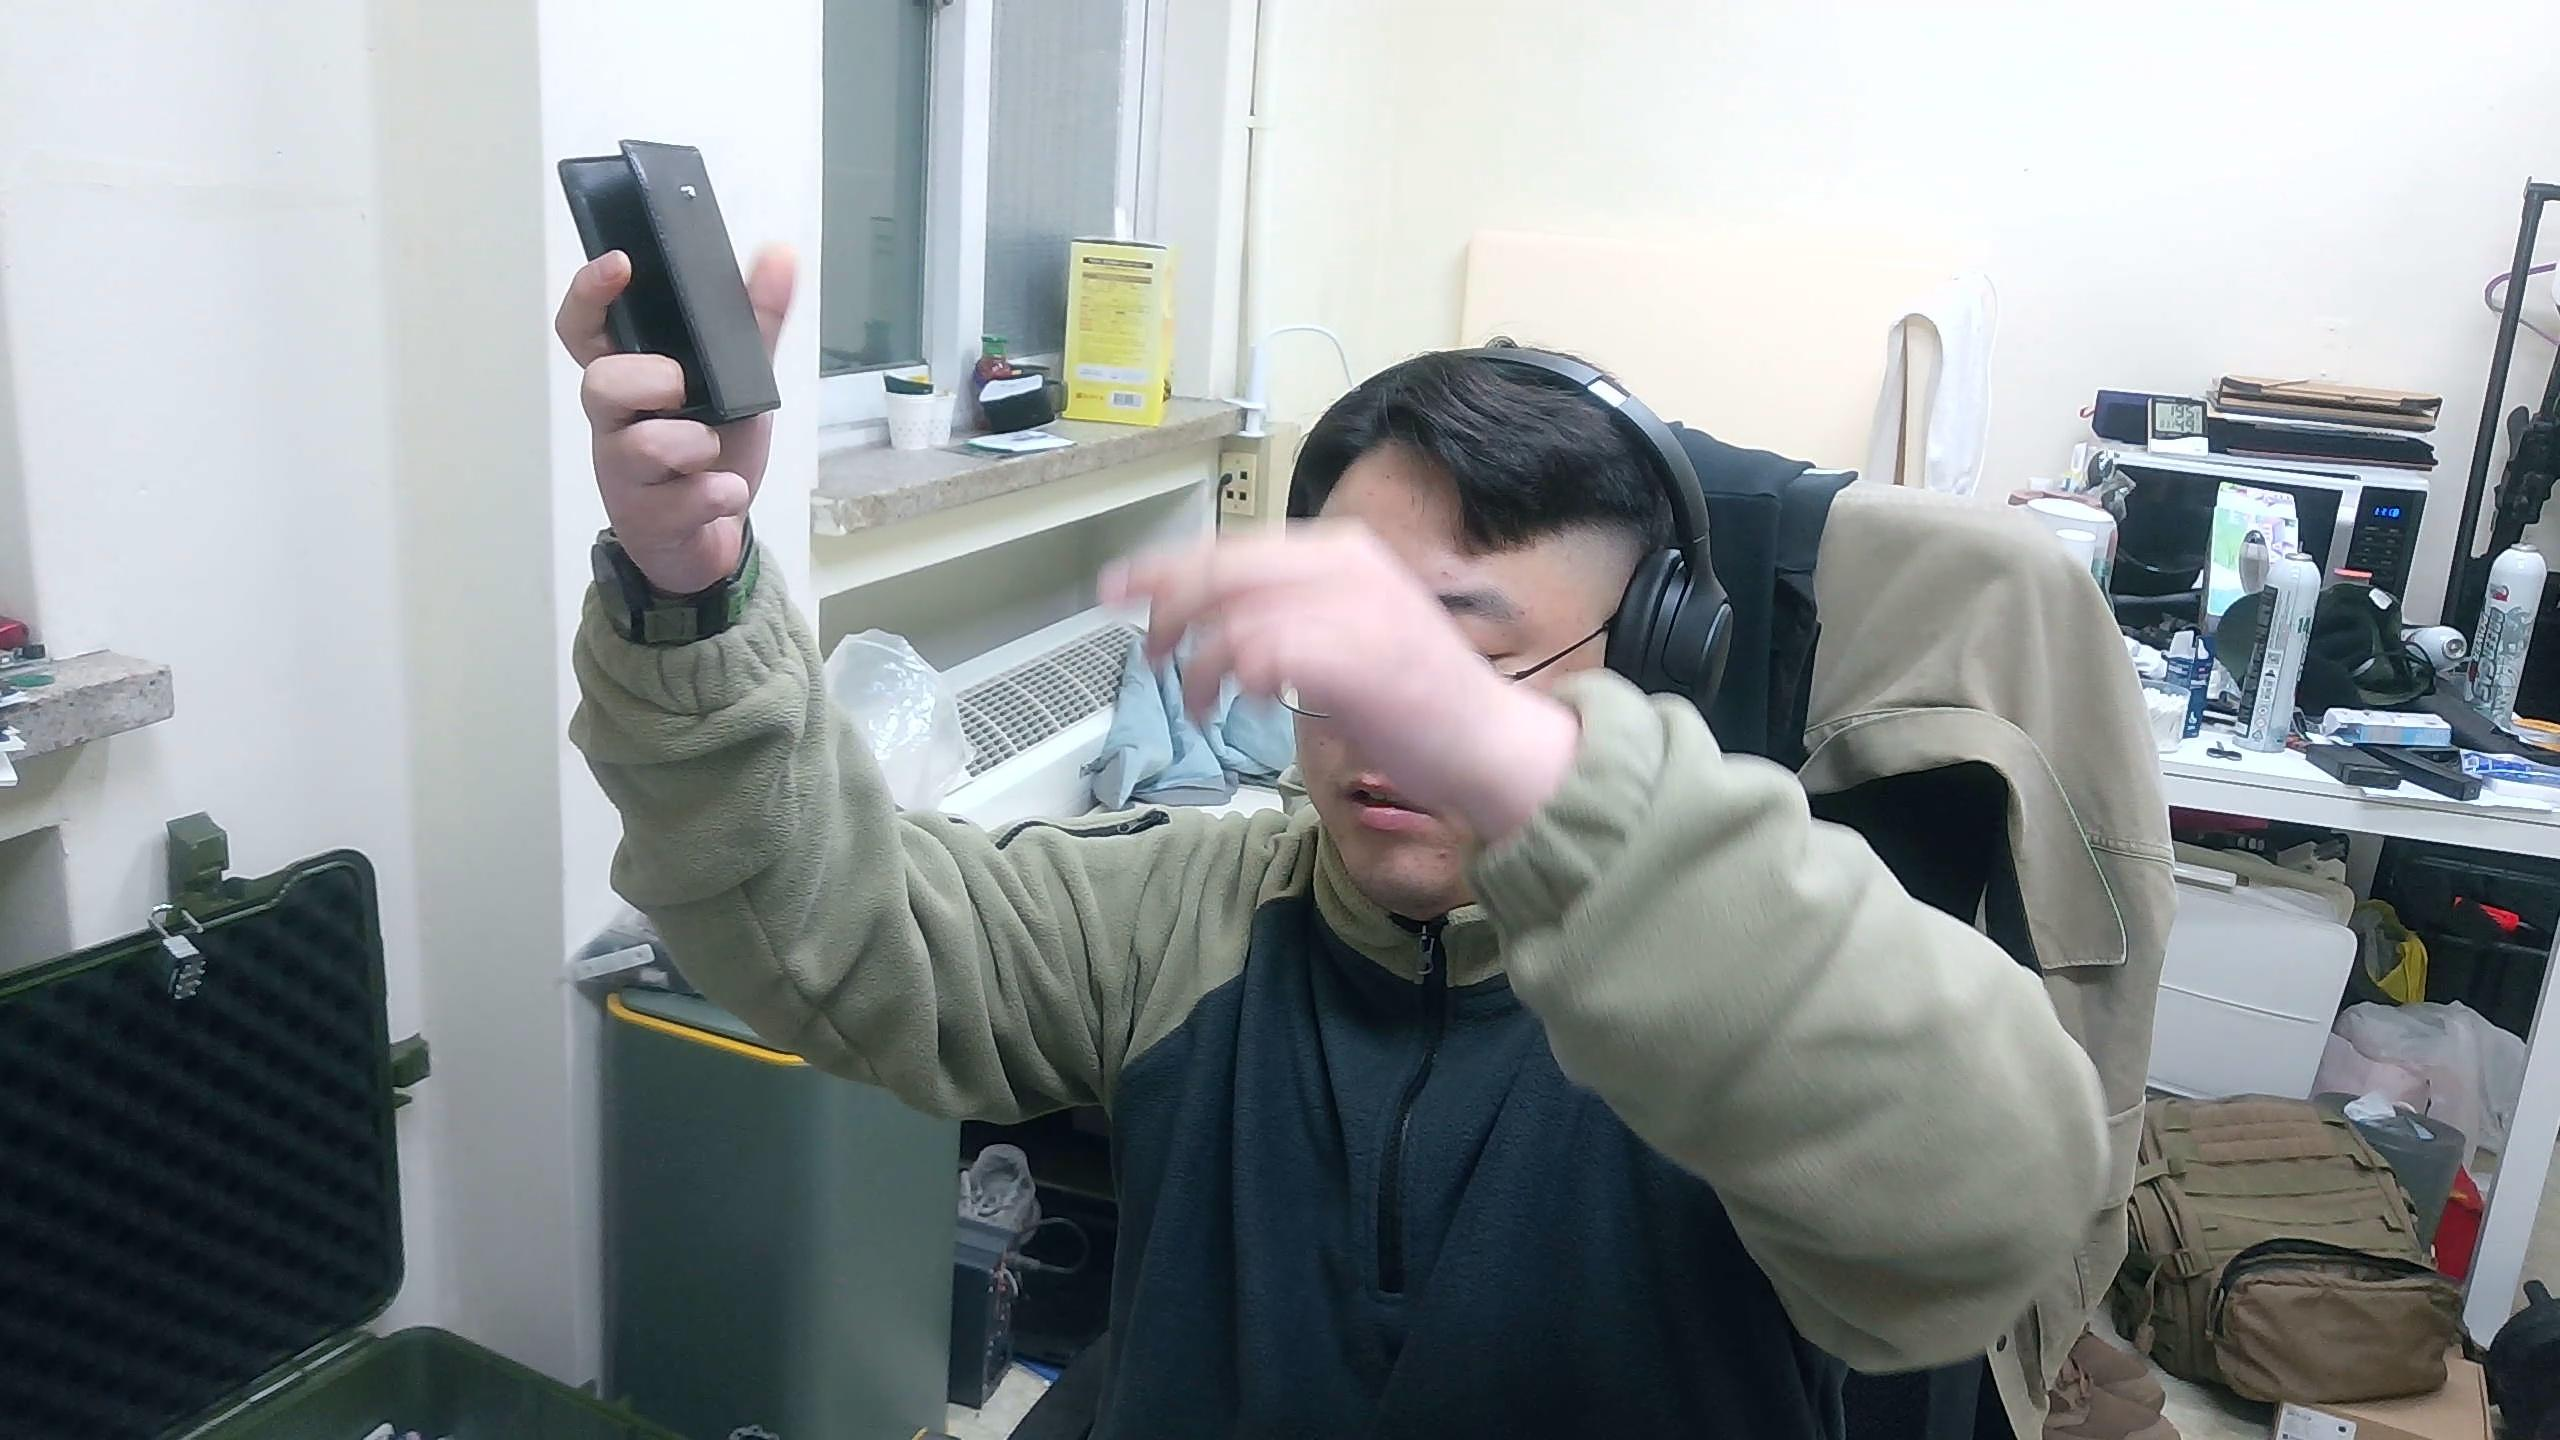earphone: (554, 135, 782, 429)
